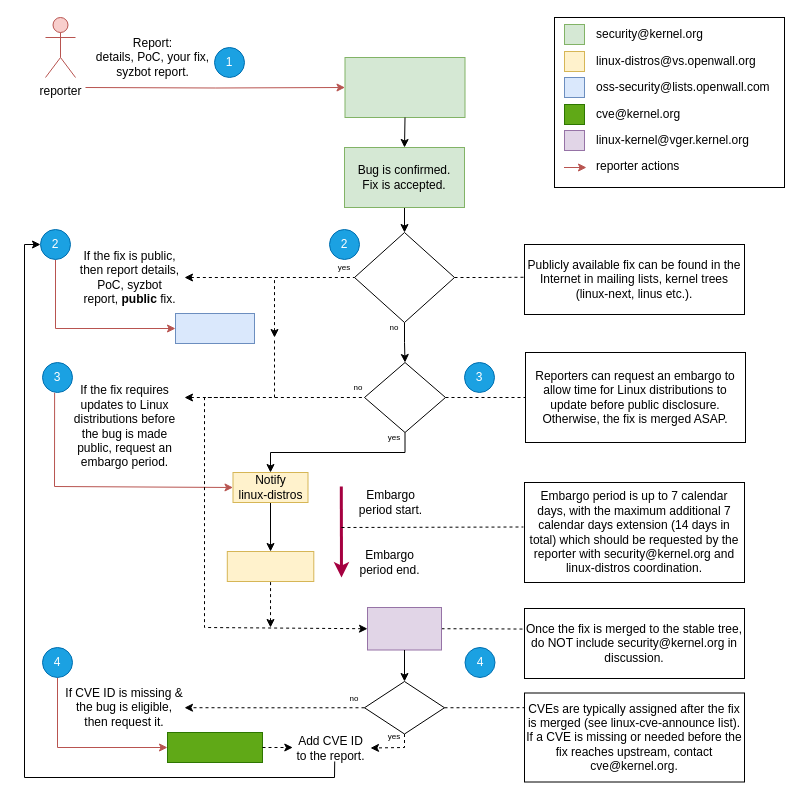
The diagram is 802 pixels wide and 803 high, and some of its shapes have lost their labels. Each missing label, with the box of its shape:
Fix is applied by linux-distros: (226, 550, 314, 582)
Fix is merged to stable tree.: (366, 606, 442, 650)
Has CVE?: (364, 680, 444, 734)
Is fix publicly released?: (354, 232, 454, 322)
Need embargo?: (364, 362, 446, 432)
Notify cve@kernel.org: (166, 732, 262, 762)
Notify oss-security: (174, 312, 254, 344)
Notify security@kernel.org, subsystem maintainers.: (344, 56, 465, 118)
